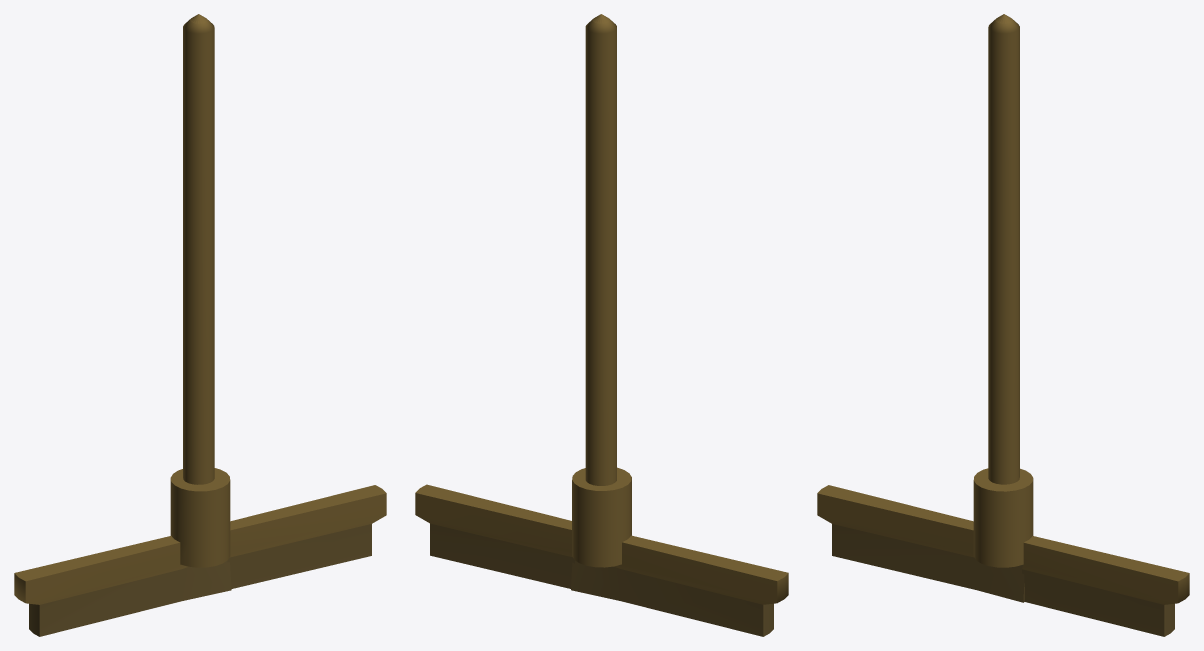
The model's file is Broom.fbx.
3 renders of one model, left to right at view 1: azimuth 30°, elevation 25°; view 2: azimuth 150°, elevation 25°; view 3: azimuth 330°, elevation 25°, orthographic.
Visible parts, largest first — view 1: polySurface34; view 2: polySurface34; view 3: polySurface34.
Part boxes in pixels (x1,y1,x2,y2): polySurface34: [14, 14, 386, 636]; polySurface34: [415, 14, 788, 636]; polySurface34: [817, 14, 1189, 636].
Bounding box in the file's own units: 4.49 × 6.82 × 0.6406.
